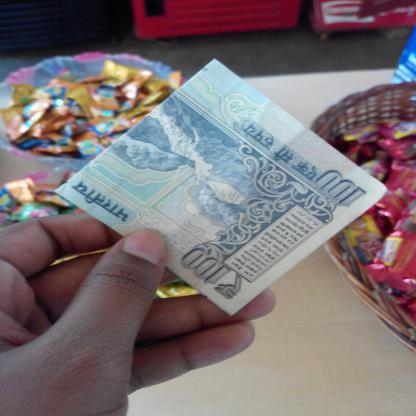Old100Back: (55, 58, 388, 316)
